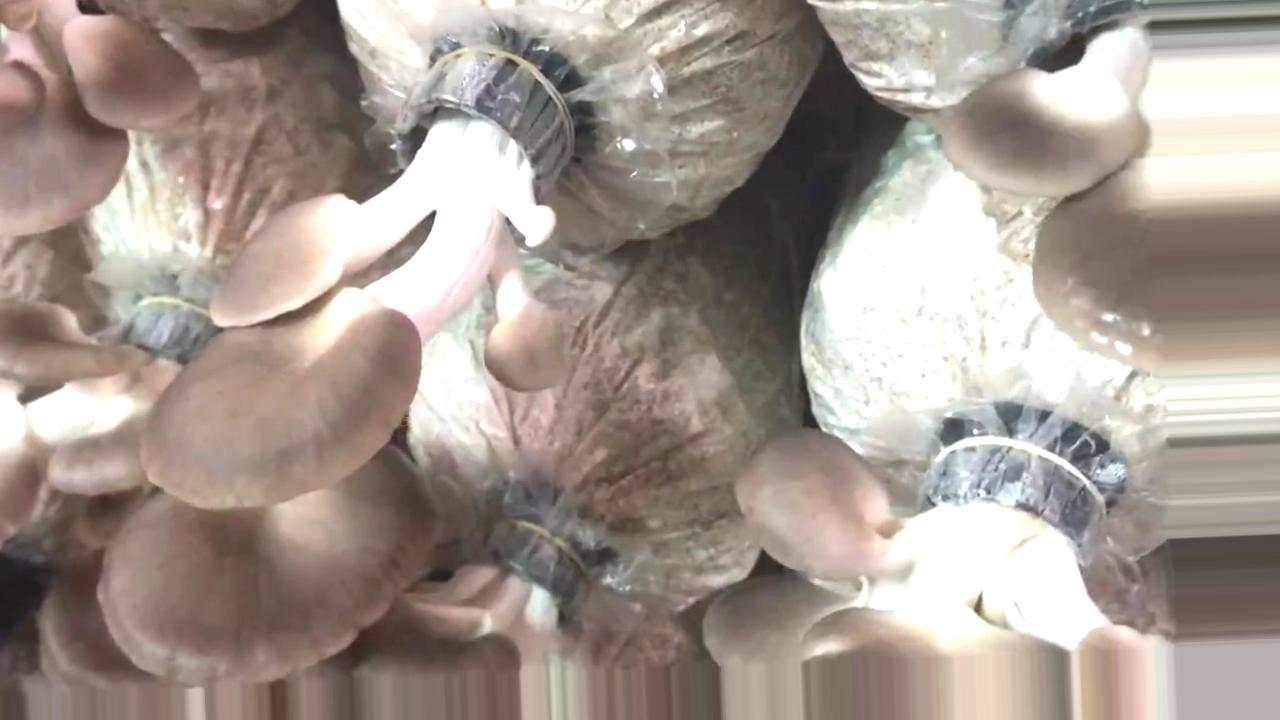nam: (96, 38, 586, 695), (699, 420, 1180, 720), (928, 1, 1278, 374), (266, 502, 595, 717), (1, 268, 220, 558), (2, 1, 205, 241)
